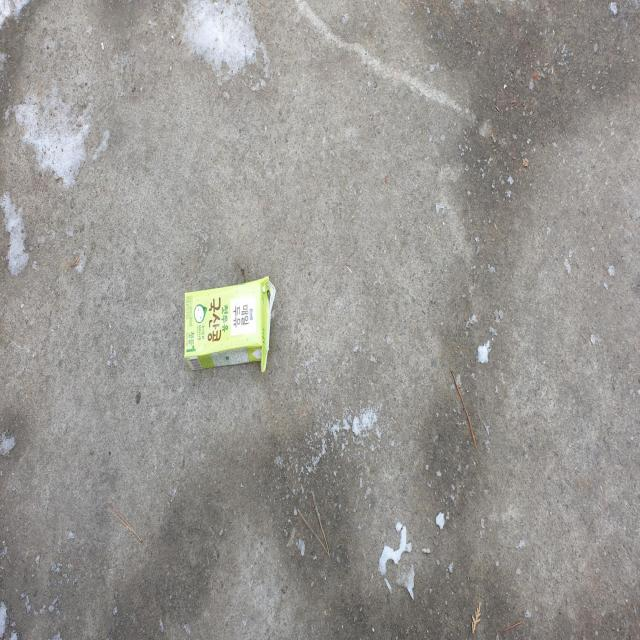paperpack: (184, 276, 276, 372)
